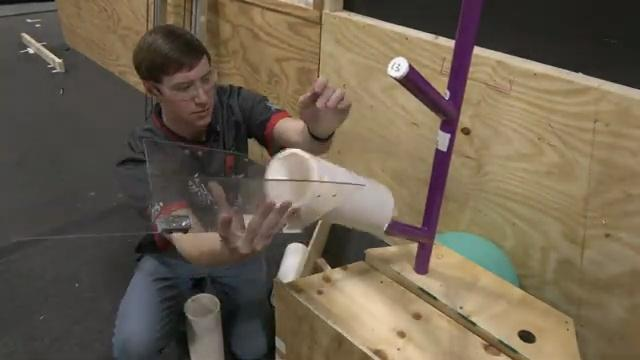CORAL: (262, 149, 394, 237), (184, 294, 227, 360)
